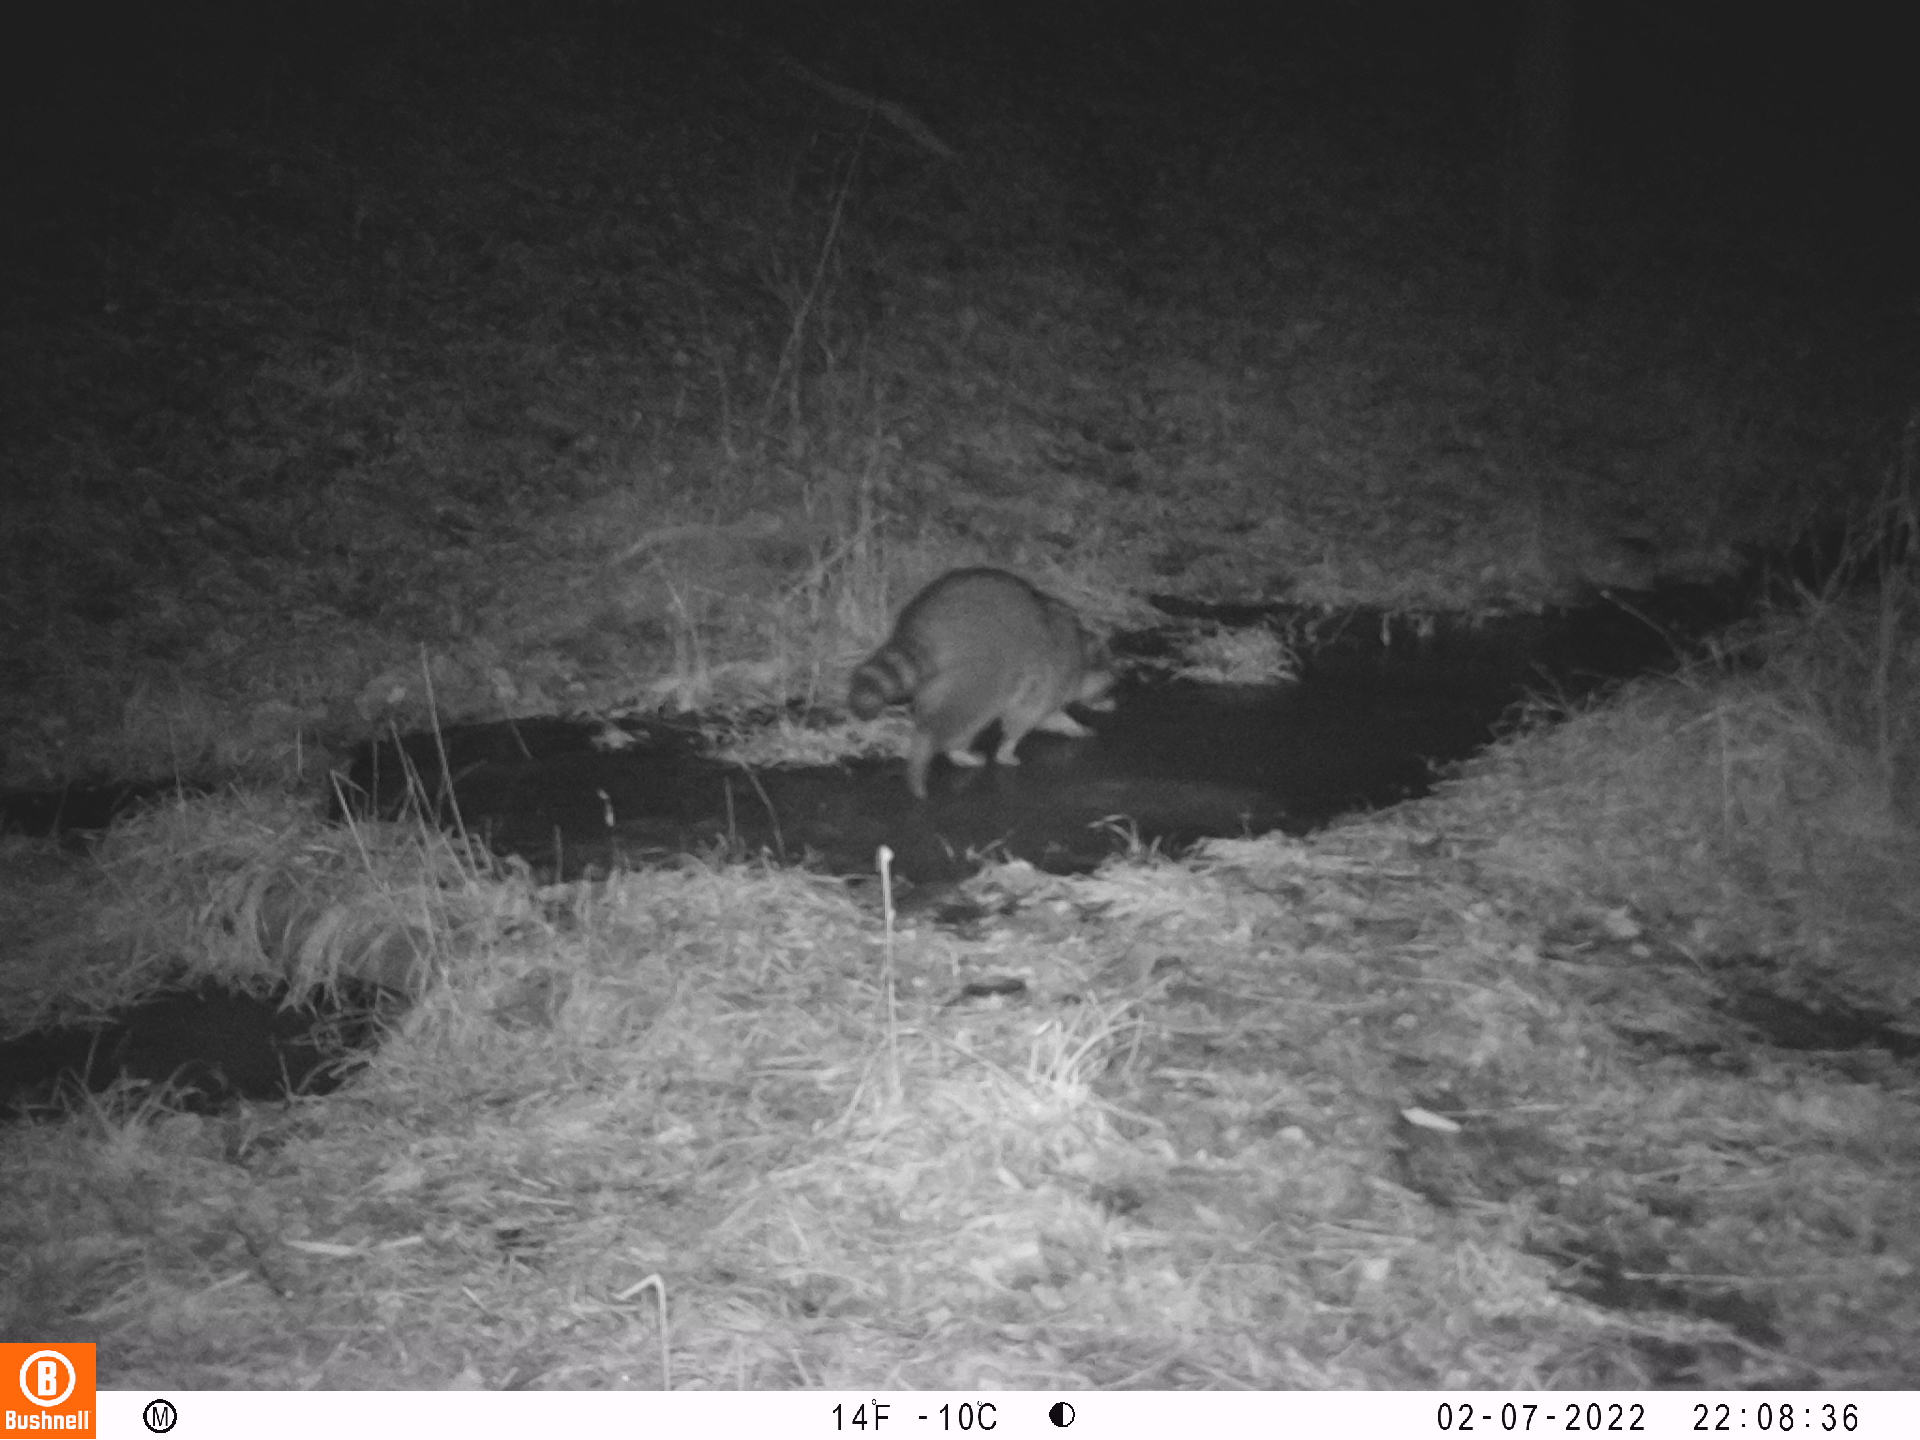Raccoon: (845, 564, 1119, 790)
